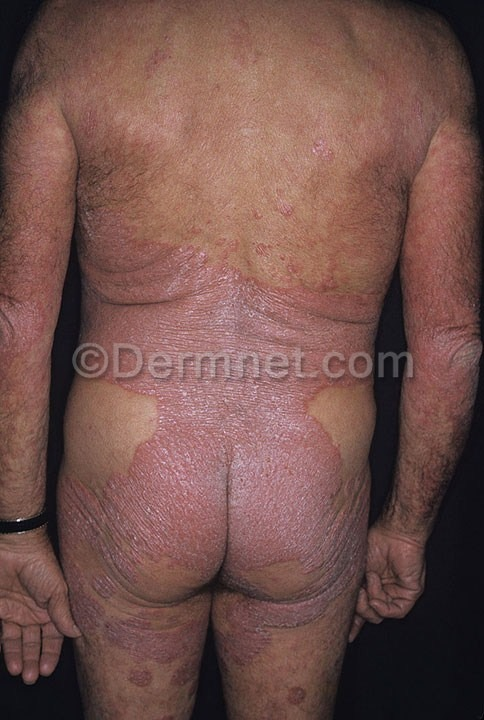Psoriasis: (91, 222, 382, 396), (122, 395, 358, 606), (58, 477, 201, 684), (401, 206, 481, 533), (7, 163, 62, 451)
